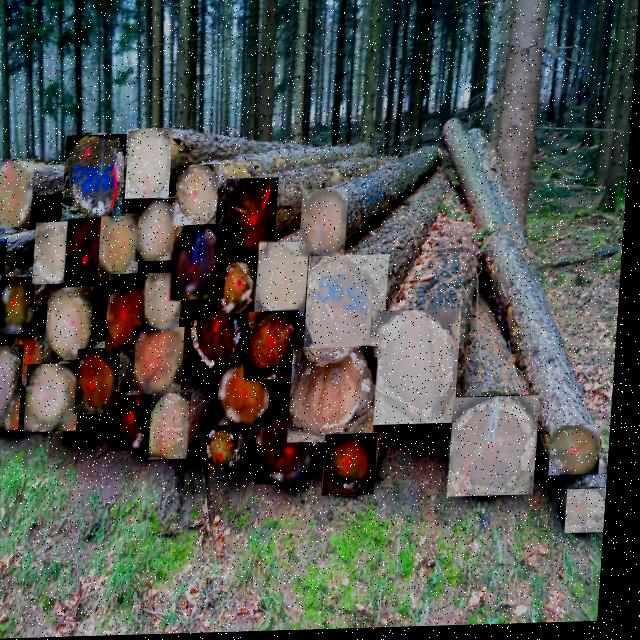wood-log: (375, 313, 464, 426), (310, 258, 390, 367), (456, 400, 543, 499), (296, 350, 380, 444), (67, 136, 127, 219), (263, 411, 320, 485), (226, 180, 279, 259), (177, 227, 230, 301), (195, 298, 250, 369), (261, 245, 311, 319), (69, 220, 116, 294), (251, 313, 302, 381), (31, 365, 84, 430), (224, 361, 275, 427), (139, 329, 189, 395), (51, 288, 96, 361), (129, 129, 174, 199), (332, 436, 382, 497), (304, 192, 349, 257), (111, 281, 151, 351), (83, 349, 123, 415), (156, 393, 194, 460), (142, 201, 183, 262), (179, 167, 221, 226), (0, 346, 28, 430), (557, 430, 606, 478), (103, 217, 143, 275), (0, 161, 35, 227), (117, 396, 155, 451), (223, 261, 261, 315), (150, 274, 185, 332), (38, 223, 71, 283), (5, 277, 38, 334), (572, 493, 612, 537), (15, 336, 48, 387), (214, 427, 243, 474), (0, 247, 9, 298), (0, 302, 6, 342)
